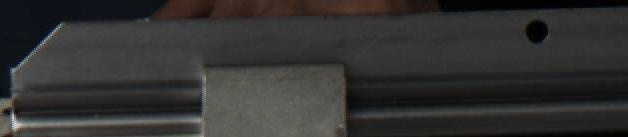cut: (5, 14, 162, 137)
holes: (523, 18, 550, 44)
